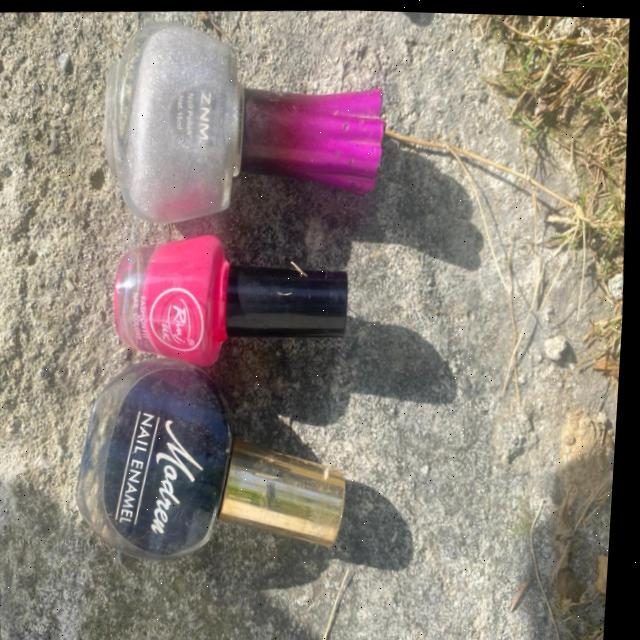nail polish: (72, 2, 429, 232), (57, 366, 400, 582), (112, 216, 388, 373)
